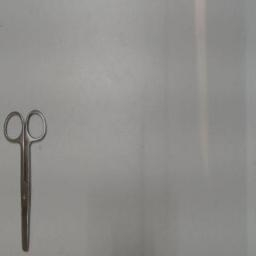Dressing Scissors: (1, 104, 51, 254)
